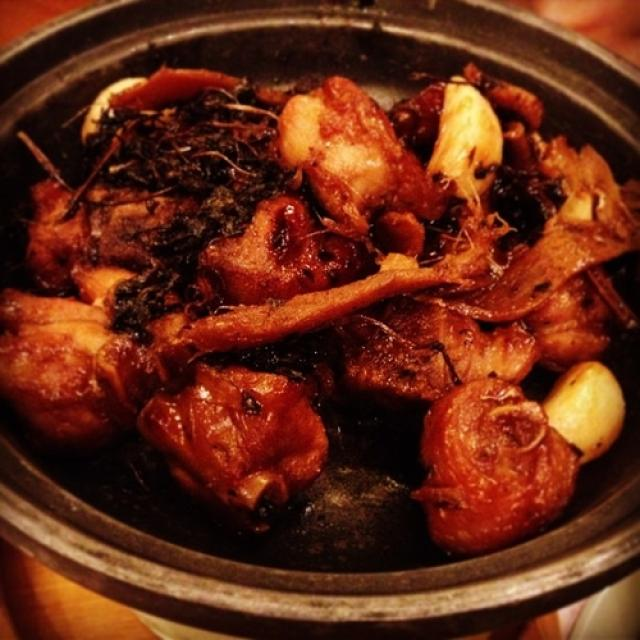鸡肉料理 含炸鸡: (19, 55, 620, 549)
